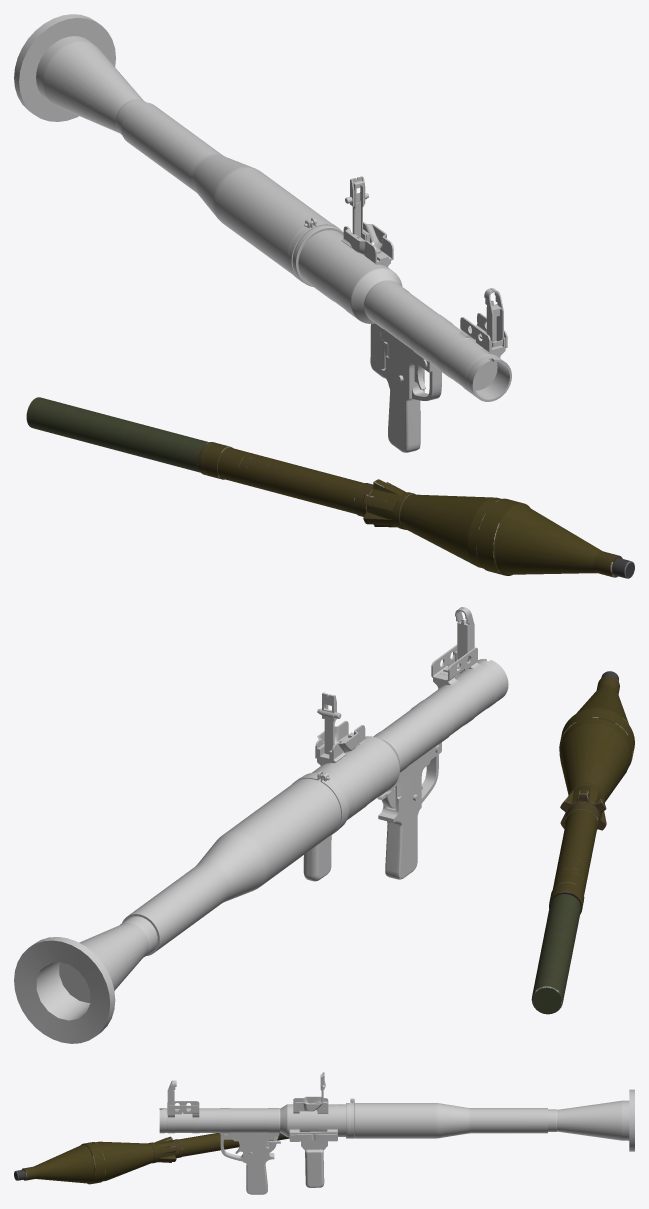
The picture shows the model from 3 angles, top to bottom: view 1: azimuth 30°, elevation 25°; view 2: azimuth 150°, elevation 25°; view 3: azimuth 270°, elevation 25°; orthographic projection. The views are drawn at different scales.
Visible parts, largest first — view 1: RPG7_RPG7_0, rocket_RPG7Rocket_0; view 2: RPG7_RPG7_0, rocket_RPG7Rocket_0; view 3: RPG7_RPG7_0, rocket_RPG7Rocket_0.
Part boxes in pixels (x1,y1,x2,y2): RPG7_RPG7_0: (14, 14, 511, 452); rocket_RPG7Rocket_0: (26, 397, 634, 578); RPG7_RPG7_0: (14, 607, 508, 1043); rocket_RPG7Rocket_0: (531, 671, 634, 1014); RPG7_RPG7_0: (159, 1080, 634, 1194); rocket_RPG7Rocket_0: (14, 1133, 289, 1184).
Size of the model in its own units: 0.2049 by 0.1383 by 0.6258.
